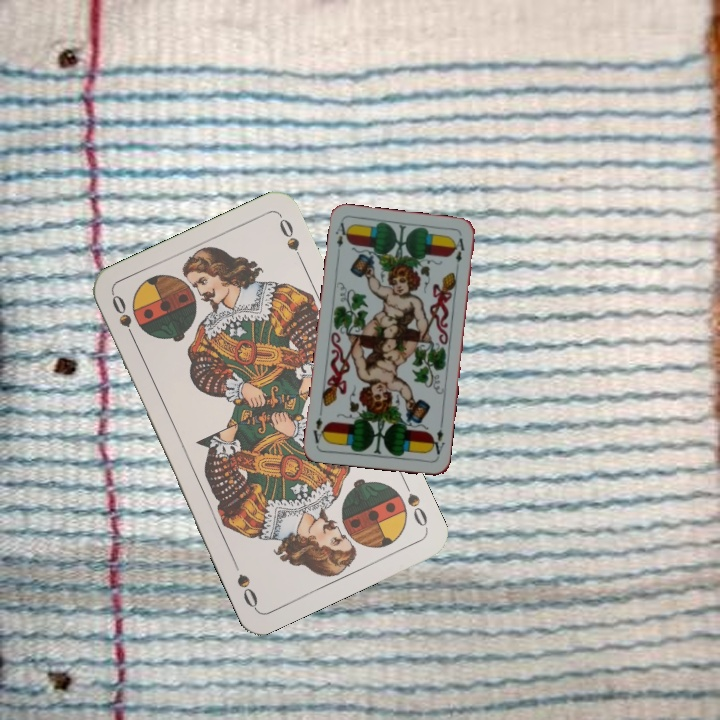EA: (331, 219, 351, 259), (427, 425, 448, 460)
SO: (107, 290, 140, 347), (399, 476, 431, 532)
